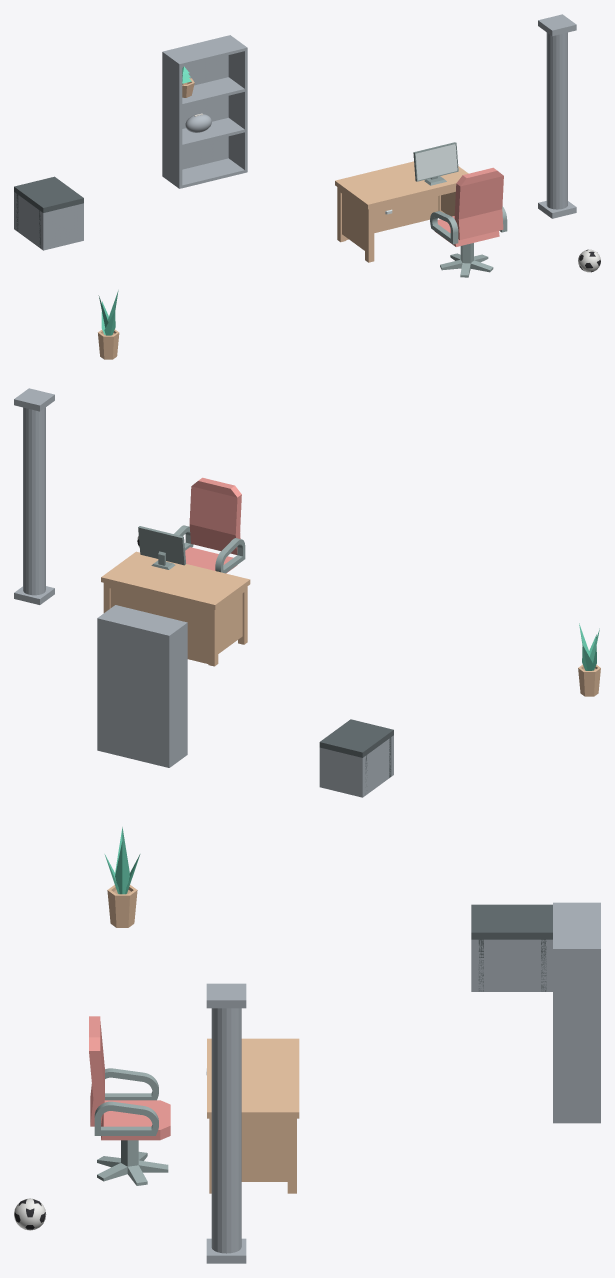
3 renders of one model, top to bottom at view 1: azimuth 30°, elevation 25°; view 2: azimuth 150°, elevation 25°; view 3: azimuth 270°, elevation 25°, orthographic. The views are drawn at different scales.
Visible parts, largest first — view 1: desk_blue__desk(Clone), deskchair_black__chair, column_cyan__column_cyan shaft, shelf_orange__shelf_orange back, shelf_orange__shelf_orange side_l, crate_red__crate_red shell, shelf_orange__shelf_orange side_r, crate_red__crate_red lid, monitor_gray__computerScreen(Clone), shelf_orange__shelf_orange board3, shelf_orange__shelf_orange board0, shelf_orange__shelf_orange board2 (+4 smaller); view 2: desk_blue__desk(Clone), shelf_orange__shelf_orange back, deskchair_black__chair, column_cyan__column_cyan shaft, crate_red__crate_red shell, shelf_orange__shelf_orange side_l, crate_red__crate_red lid, monitor_gray__computerScreen(Clone), shelf_orange__shelf_orange board3, column_cyan__column_cyan capital, plant_pink__pottedPlant(Clone); view 3: desk_blue__desk(Clone), shelf_orange__shelf_orange side_r, column_cyan__column_cyan shaft, deskchair_black__chair, crate_red__crate_red shell, crate_red__crate_red lid, shelf_orange__shelf_orange board3, deskchair_black__chairDesk(Clone), column_cyan__column_cyan capital, plant_pink__pottedPlant(Clone), plant_pink__plant, soccer_white__soccer_white (+1 smaller).
Part boxes in pixels (x1,y1,x2,y2): desk_blue__desk(Clone): [335, 161, 468, 262]; deskchair_black__chair: [430, 167, 507, 246]; column_cyan__column_cyan shaft: [546, 32, 567, 209]; shelf_orange__shelf_orange back: [165, 36, 228, 169]; shelf_orange__shelf_orange side_l: [162, 51, 182, 188]; crate_red__crate_red shell: [14, 192, 83, 250]; shelf_orange__shelf_orange side_r: [228, 35, 247, 172]; crate_red__crate_red lid: [14, 176, 83, 212]; monitor_gray__computerScreen(Clone): [413, 142, 458, 185]; shelf_orange__shelf_orange board3: [166, 36, 244, 66]; shelf_orange__shelf_orange board0: [182, 158, 244, 188]; shelf_orange__shelf_orange board2: [182, 77, 244, 106]; desk_blue__desk(Clone): [101, 551, 250, 666]; shelf_orange__shelf_orange back: [100, 618, 166, 767]; deskchair_black__chair: [174, 477, 245, 573]; column_cyan__column_cyan shaft: [23, 407, 45, 595]; crate_red__crate_red shell: [319, 735, 393, 797]; shelf_orange__shelf_orange side_l: [166, 622, 187, 767]; crate_red__crate_red lid: [319, 719, 393, 757]; monitor_gray__computerScreen(Clone): [138, 526, 185, 569]; shelf_orange__shelf_orange board3: [101, 605, 184, 634]; column_cyan__column_cyan capital: [14, 388, 54, 411]; plant_pink__pottedPlant(Clone): [578, 664, 600, 696]; desk_blue__desk(Clone): [207, 1038, 299, 1193]; shelf_orange__shelf_orange side_r: [553, 947, 600, 1123]; column_cyan__column_cyan shaft: [211, 1008, 241, 1253]; deskchair_black__chair: [89, 1016, 170, 1140]; crate_red__crate_red shell: [471, 939, 552, 991]; crate_red__crate_red lid: [471, 904, 552, 939]; shelf_orange__shelf_orange board3: [553, 904, 597, 947]; deskchair_black__chairDesk(Clone): [97, 1140, 168, 1185]; column_cyan__column_cyan capital: [206, 983, 246, 1008]; plant_pink__pottedPlant(Clone): [107, 885, 137, 927]; plant_pink__plant: [104, 827, 140, 894]; soccer_white__soccer_white: [14, 1198, 46, 1230].
Size of the model in its own units: 5.6 by 1.98 by 4.
